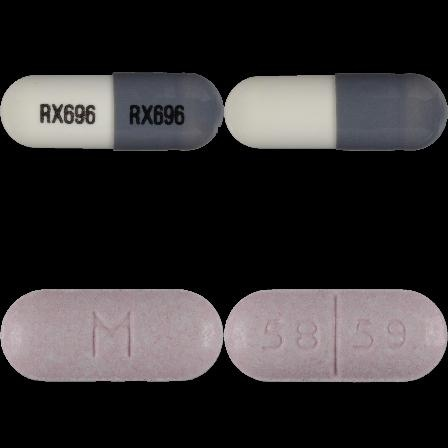63629-2759: (0, 0, 224, 224)
